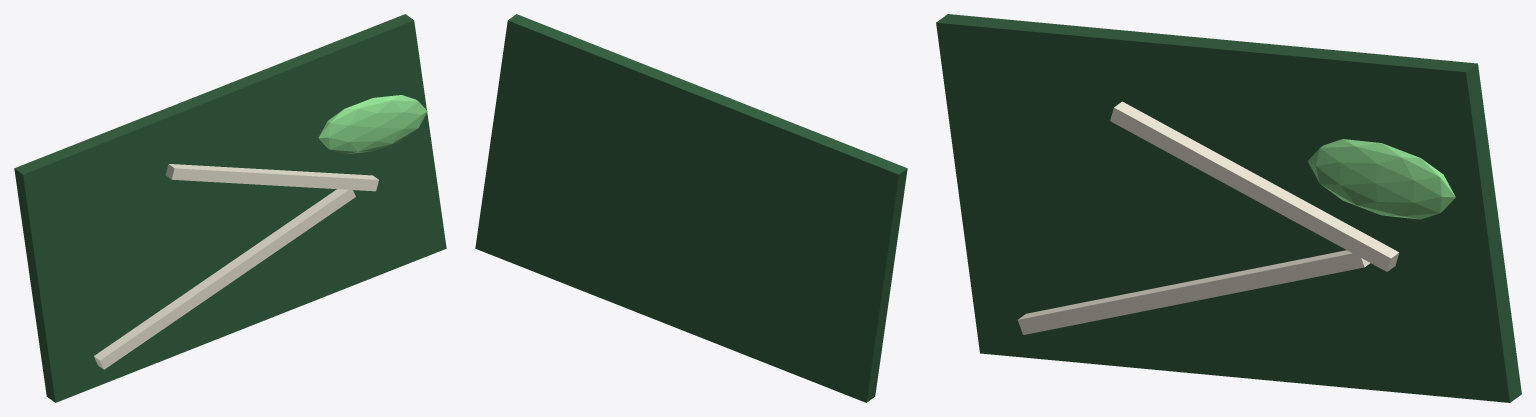
The model's file is 03_weathering_wear_overlay_3.glb.
3 renders of one model, left to right at view 1: azimuth 30°, elevation 25°; view 2: azimuth 150°, elevation 25°; view 3: azimuth 330°, elevation 25°, orthographic. The views are drawn at different scales.
Visible parts, largest first — view 1: wear_plate, scratch_a, rust_or_moss_spot, scratch_b; view 2: wear_plate; view 3: wear_plate, rust_or_moss_spot, scratch_b, scratch_a.
Part boxes in pixels (x1=…): wear_plate: x1=14, y1=14, x2=446, y2=402; scratch_a: x1=94, y1=189, x2=355, y2=369; rust_or_moss_spot: x1=318, y1=95, x2=427, y2=154; scratch_b: x1=165, y1=164, x2=378, y2=191; wear_plate: x1=475, y1=14, x2=907, y2=402; wear_plate: x1=936, y1=14, x2=1521, y2=402; rust_or_moss_spot: x1=1307, y1=139, x2=1455, y2=219; scratch_b: x1=1110, y1=101, x2=1399, y2=271; scratch_a: x1=1017, y1=250, x2=1370, y2=334.
Bounding box in the file's own units: 1.39 × 0.9275 × 0.134.
